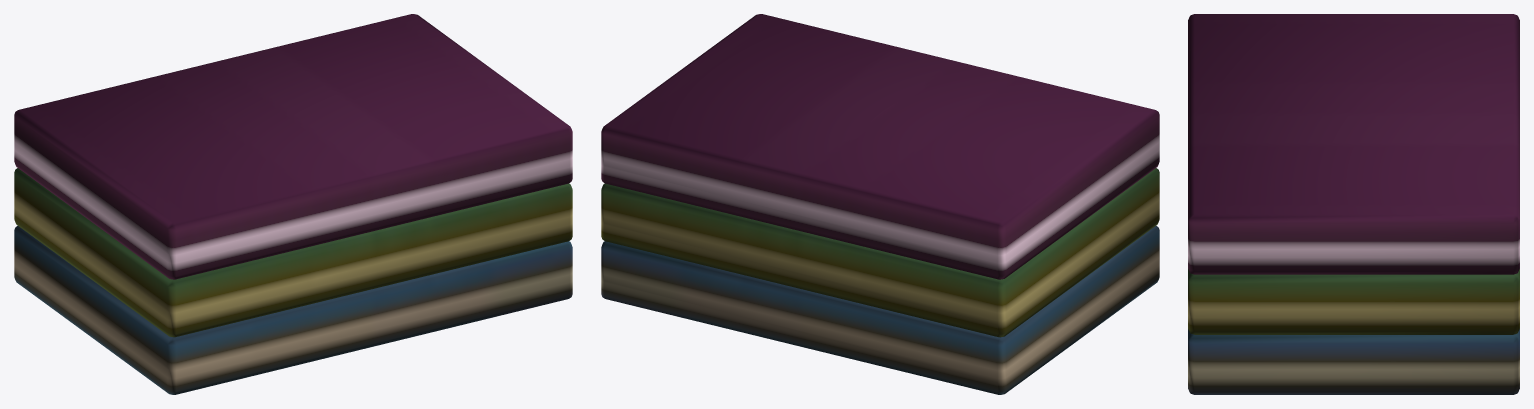
Rendered from mantel_books.glb.
3 renders of one model, left to right at view 1: azimuth 30°, elevation 25°; view 2: azimuth 150°, elevation 25°; view 3: azimuth 270°, elevation 25°, orthographic. The views are drawn at different scales.
Parts seen in each view (by area): view 1: Book spines; view 2: Book spines; view 3: Book spines.
Boxes of the visible parts, x1,y1,x2,y2 form: Book spines: (14,14,572,394); Book spines: (601,14,1159,394); Book spines: (1188,14,1519,394).
Size of the model in its own units: 0.22 by 0.09 by 0.15.
Materials: 1 (1 with a texture image).
